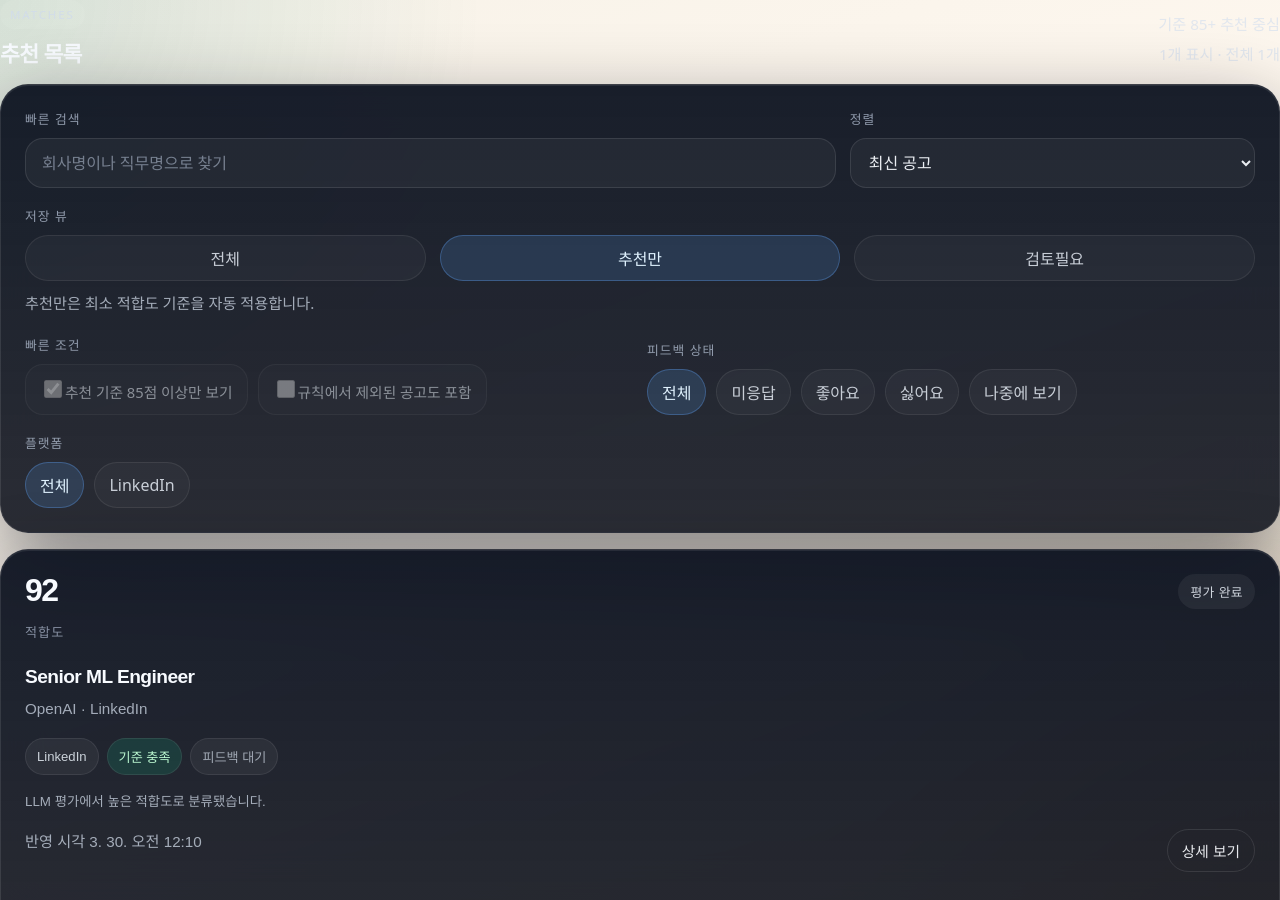
Scenario: RecommendationBoard › updates modal guidance when a different feedback action is selected
Click the button with aria-label "Senior ML Engineer 상세 보기" at (640, 723), box [25,574,1255,872]
(page scrolled)
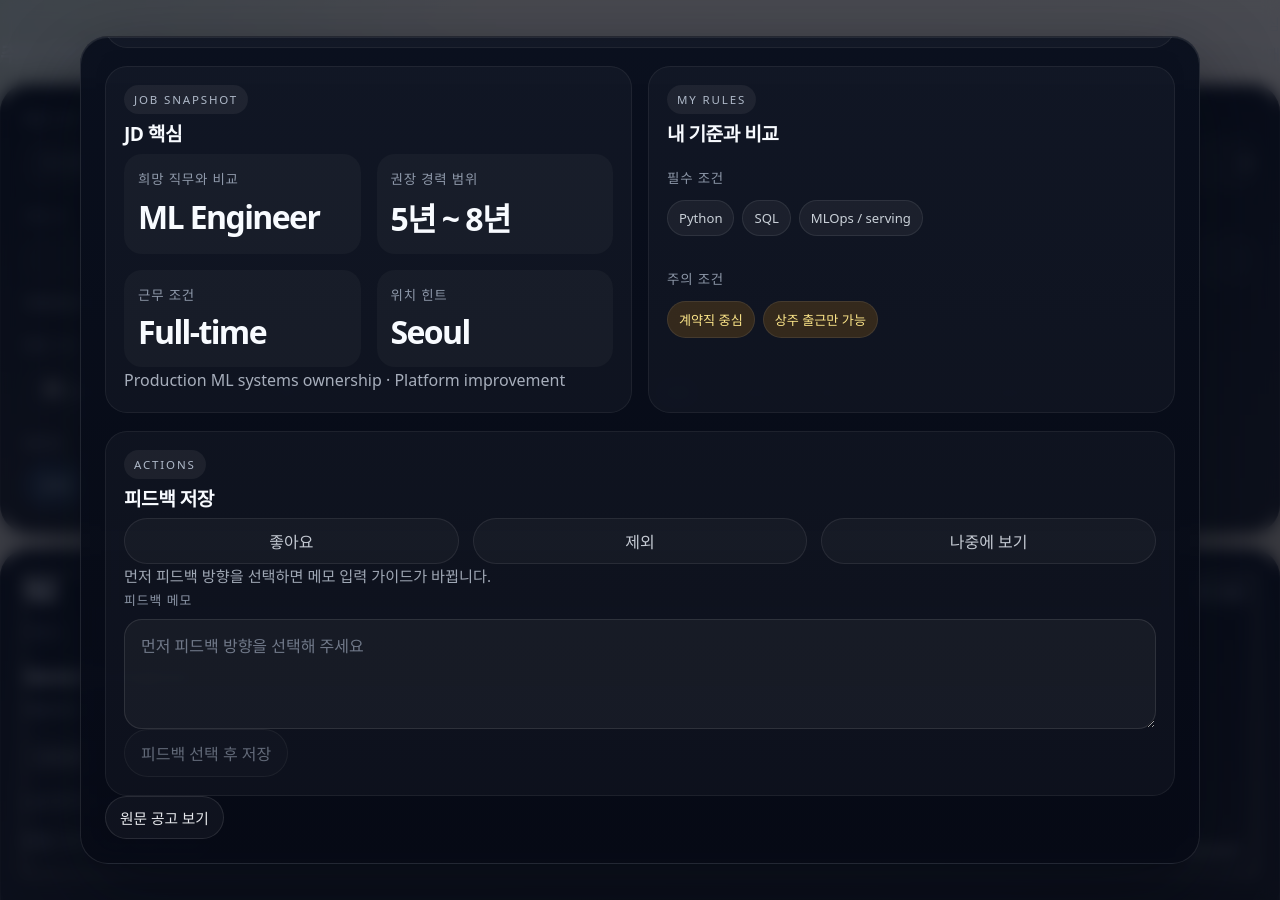
Expected: the button "피드백 선택 후 저장" is disabled, [124,729,288,777]
Click the button "좋아요" at (291, 541), box [124,518,459,564]
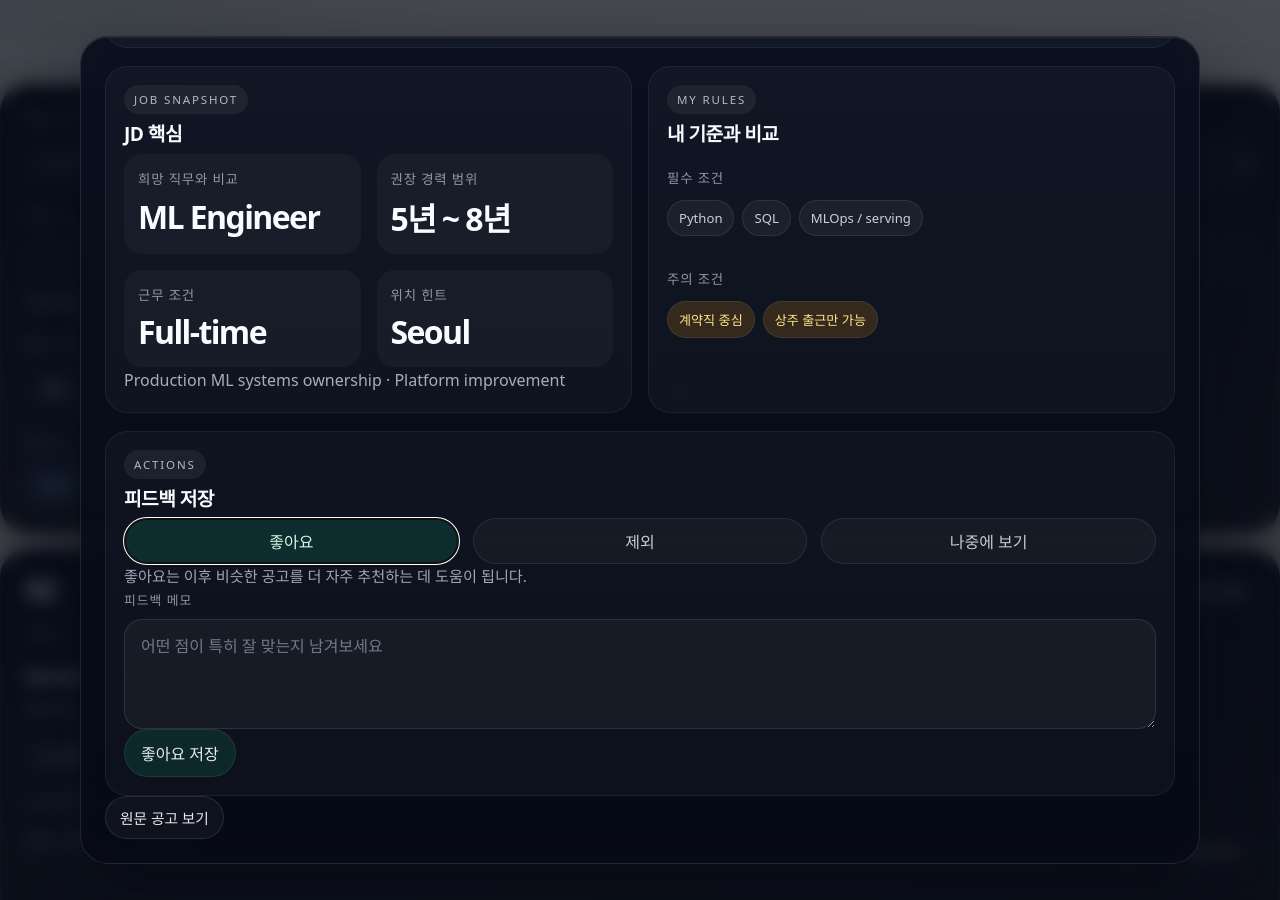
Expected: the text "좋아요는 이후 비슷한 공고를 더 자주 추천하는 데 도움이 됩니다." is shown, [124,566,527,586]
Expected: the button "좋아요 저장" is enabled, [124,729,236,777]
Click the button "제외" at (640, 541), box [473,518,807,564]
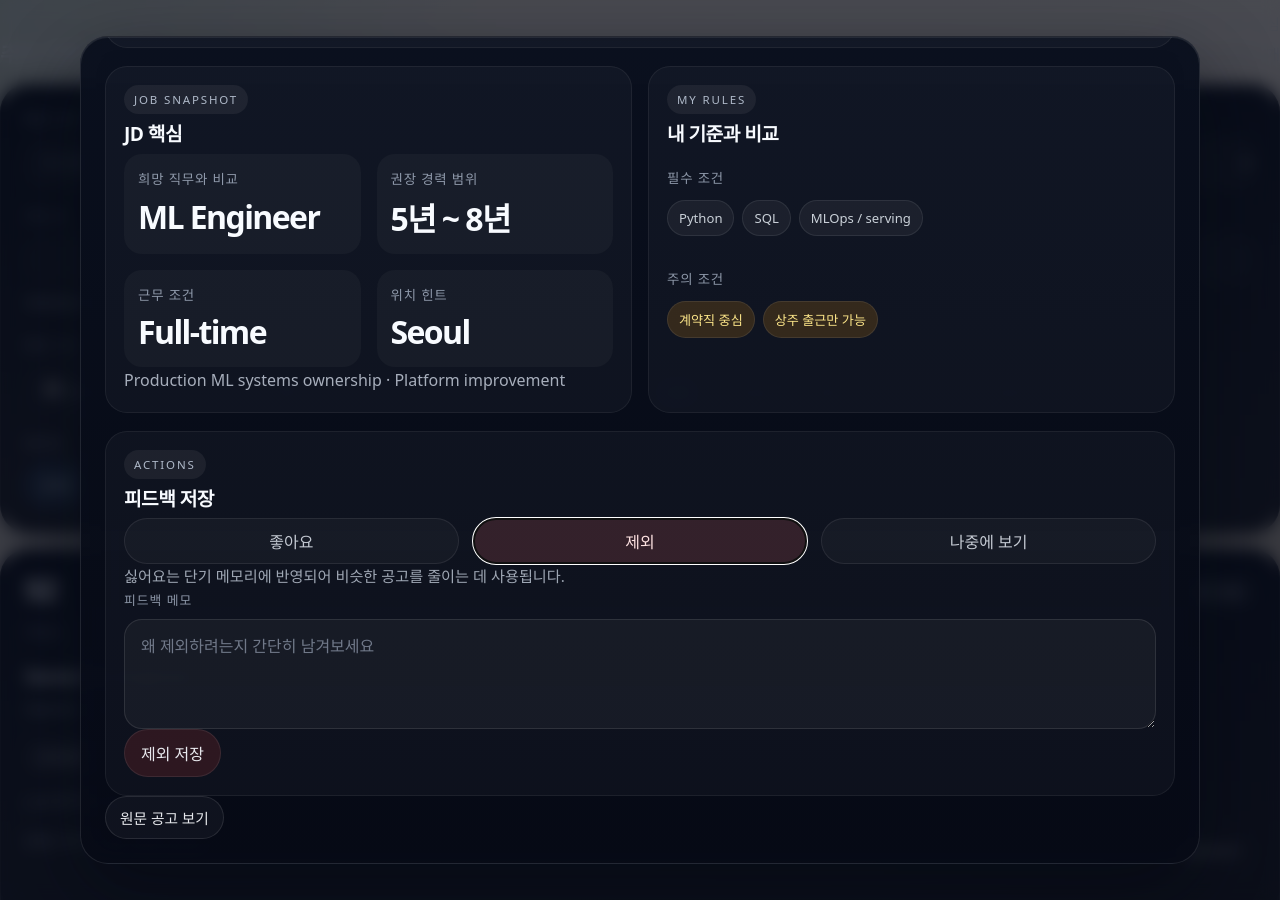
Expected: the text "싫어요는 단기 메모리에 반영되어 비슷한 공고를 줄이는 데 사용됩니다." is shown, [124,566,565,586]
